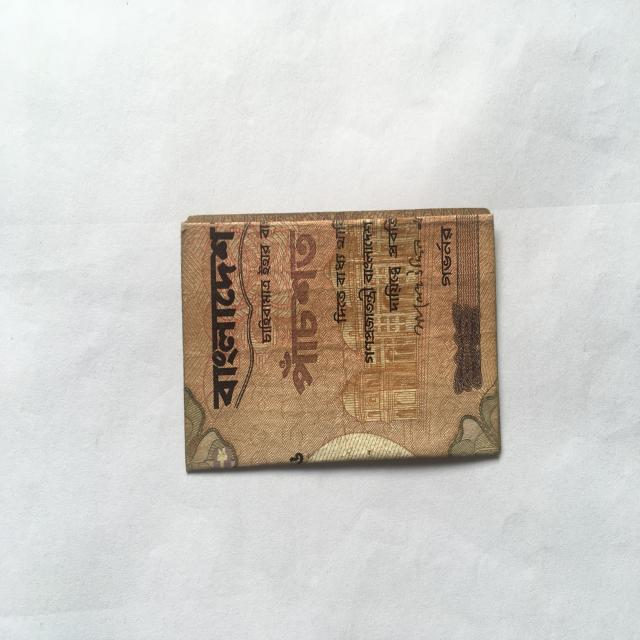Taka: (177, 205, 504, 474)
